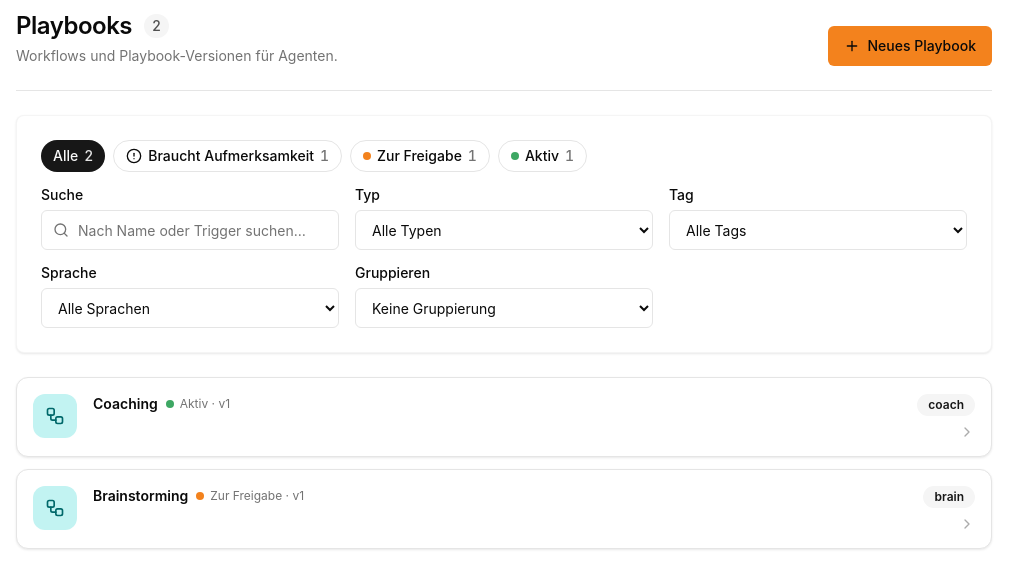
Test: PlaybooksPage › filtert ueber den Status-Chip „Braucht Aufmerksamkeit“
Expected: the link "Coaching" is shown, top-left (93, 394), bottom-right (158, 414)
Chip traegt Zaehler 1 (nur die Review-Version braucht Aufmerksamkeit).
Click the button "Braucht Aufmerksamkeit 1": (228, 156) top-left (113, 140), bottom-right (342, 172)
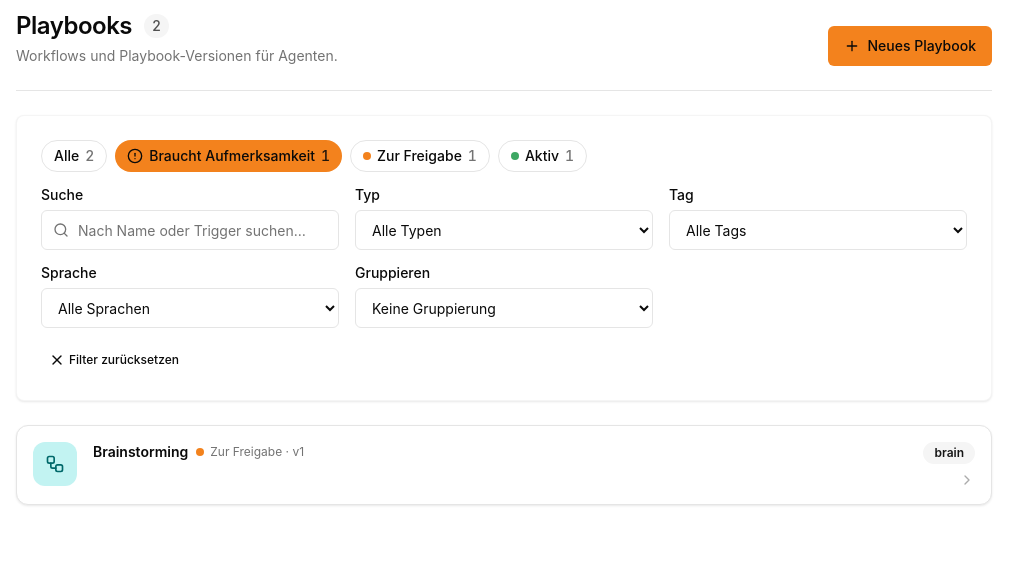
Expected: the link "Brainstorming" is shown, top-left (93, 442), bottom-right (188, 462)
Now the link "Coaching" is gone
